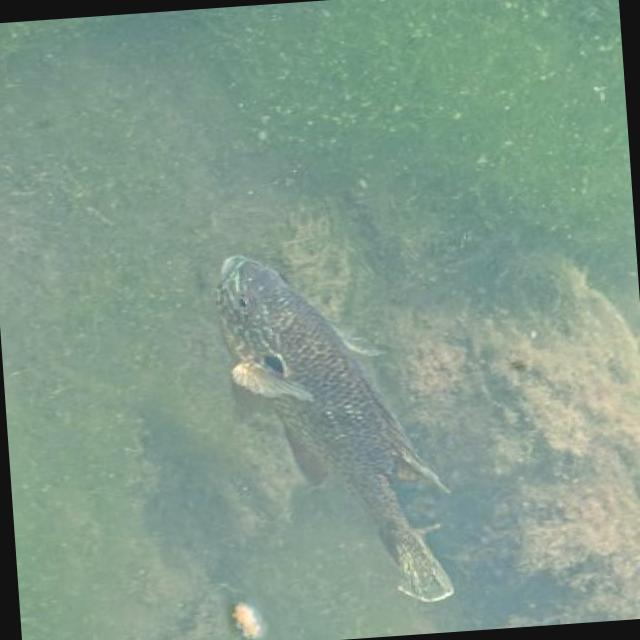Gunes Levregi: (208, 240, 468, 614)
